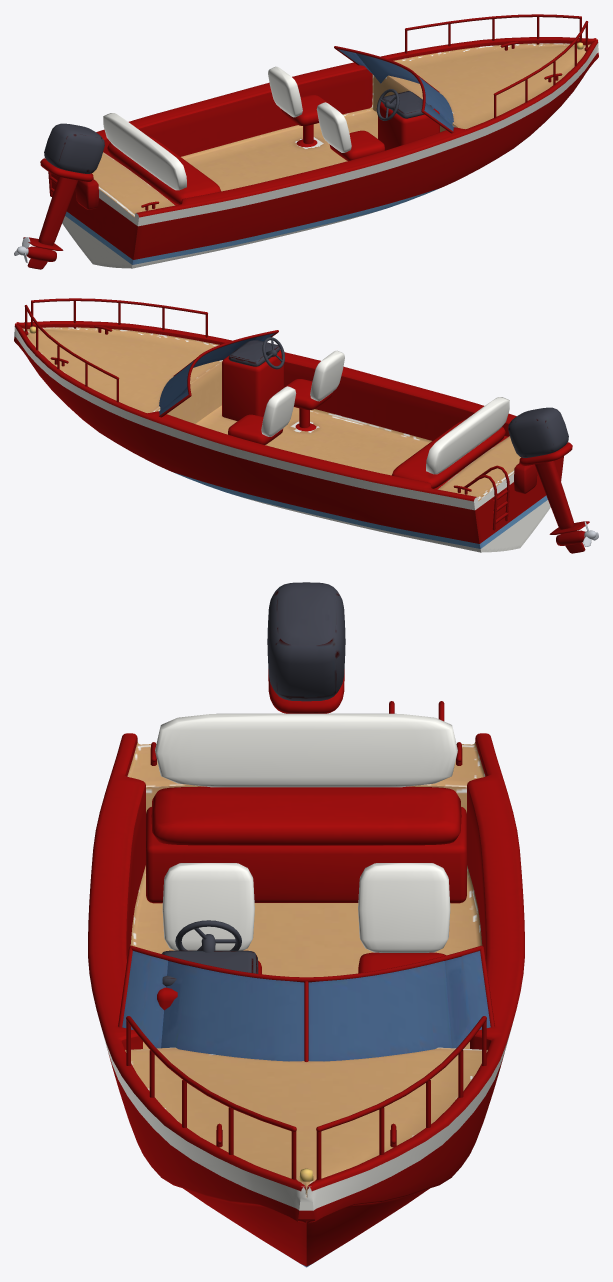
The model's file is lancha-ventura-210-2021.glb.
The picture shows the model from 3 angles, top to bottom: view 1: azimuth 30°, elevation 25°; view 2: azimuth 150°, elevation 25°; view 3: azimuth 270°, elevation 25°; orthographic projection. The views are drawn at different scales.
Visible parts, largest first — view 1: motorboat_body, motorboat_steering_wheel; view 2: motorboat_body, motorboat_steering_wheel; view 3: motorboat_body, motorboat_steering_wheel.
Boxes of the visible parts, x1=… form: motorboat_body: x1=23, y1=14, x2=598, y2=269; motorboat_steering_wheel: x1=376, y1=89, x2=399, y2=120; motorboat_body: x1=14, y1=298, x2=589, y2=553; motorboat_steering_wheel: x1=262, y1=337, x2=284, y2=369; motorboat_body: x1=88, y1=582, x2=524, y2=1267; motorboat_steering_wheel: x1=175, y1=920, x2=241, y2=952.
Size of the model in its own units: 6.4 by 1.56 by 2.09.
3 materials, 1 textured.
